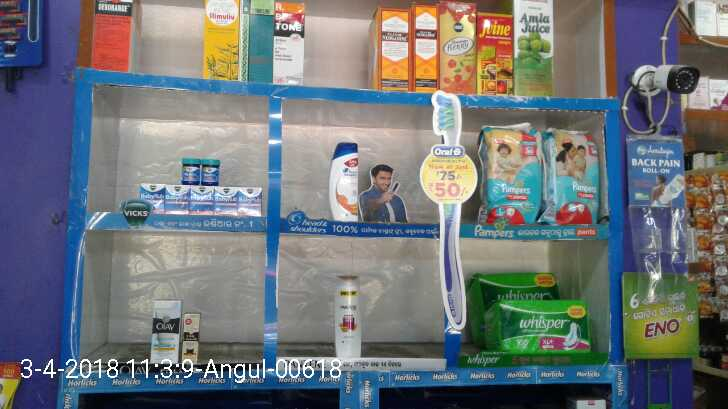vicks: (138, 149, 264, 216)
